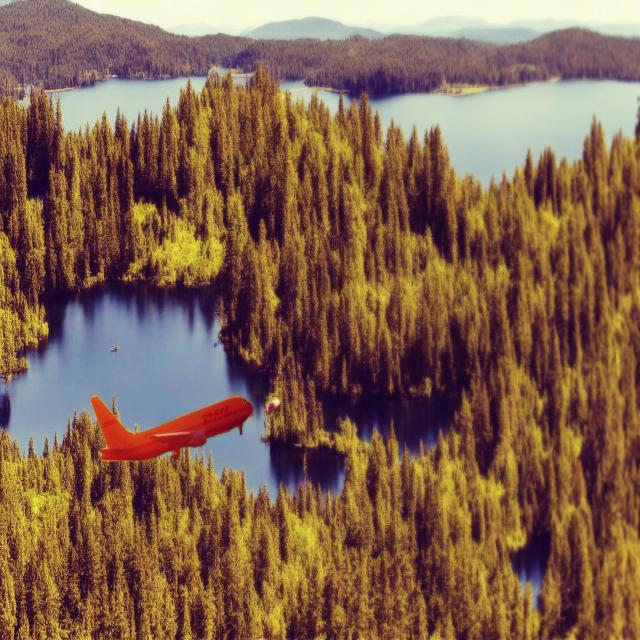airplane: (90, 393, 254, 462)
